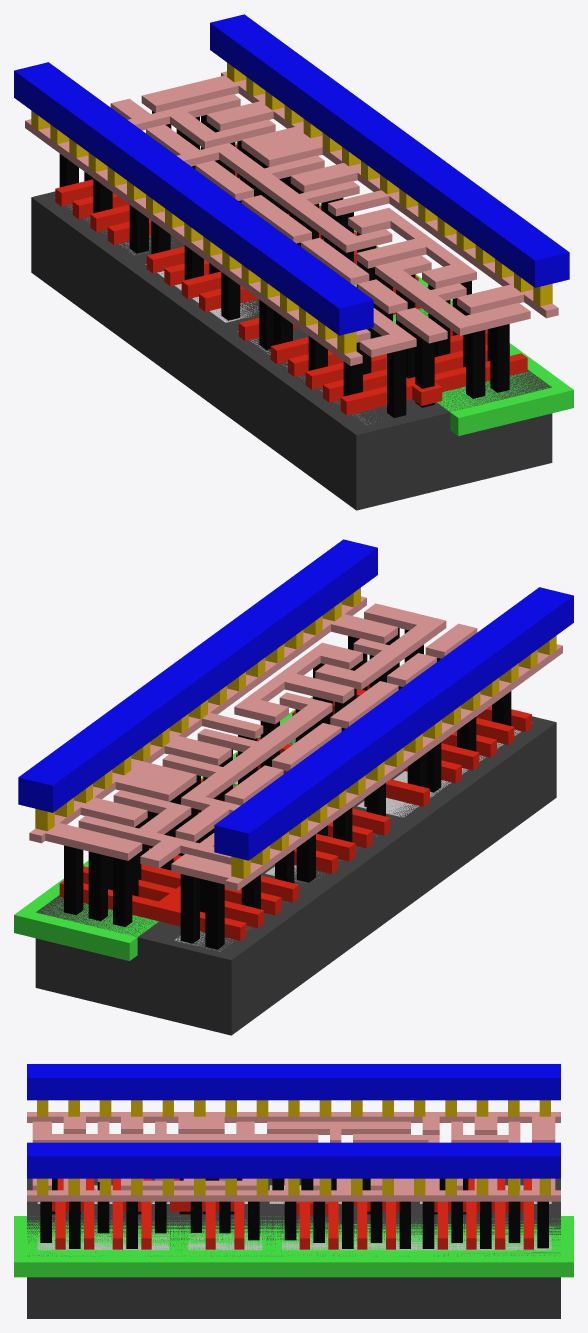
Rendered from sky130_fd_sc_hd__o311a_4.obj.
The picture shows the model from 3 angles, top to bottom: view 1: azimuth 30°, elevation 25°; view 2: azimuth 150°, elevation 25°; view 3: azimuth 270°, elevation 25°; orthographic projection. The views are drawn at different scales.
Parts seen in each view (by area): view 1: subs, metal1, li, licon, poly, mcon, nwell; view 2: subs, metal1, li, licon, poly, mcon, nwell, diff; view 3: metal1, subs, nwell, li, licon, poly, mcon, tap.
Boxes of the visible parts, x1,y1,x2,y2 form: subs: (31, 191, 552, 510); metal1: (14, 14, 569, 335); li: (25, 71, 558, 365); licon: (59, 111, 509, 417); poly: (55, 144, 527, 415); mcon: (31, 62, 552, 353); nwell: (200, 142, 573, 435); subs: (35, 716, 556, 1035); metal1: (18, 539, 573, 860); li: (29, 596, 562, 890); licon: (64, 628, 511, 949); poly: (59, 684, 531, 940); mcon: (35, 587, 556, 878); nwell: (14, 696, 312, 960); diff: (175, 729, 520, 951); metal1: (27, 1064, 560, 1178); subs: (27, 1178, 560, 1318); nwell: (14, 1216, 573, 1277); li: (27, 1112, 560, 1201); licon: (40, 1178, 548, 1248); poly: (52, 1178, 533, 1249); mcon: (37, 1100, 550, 1195); tap: (37, 1231, 551, 1250).
Size of the model in its own units: 3.2 by 2.74 by 8.2.
